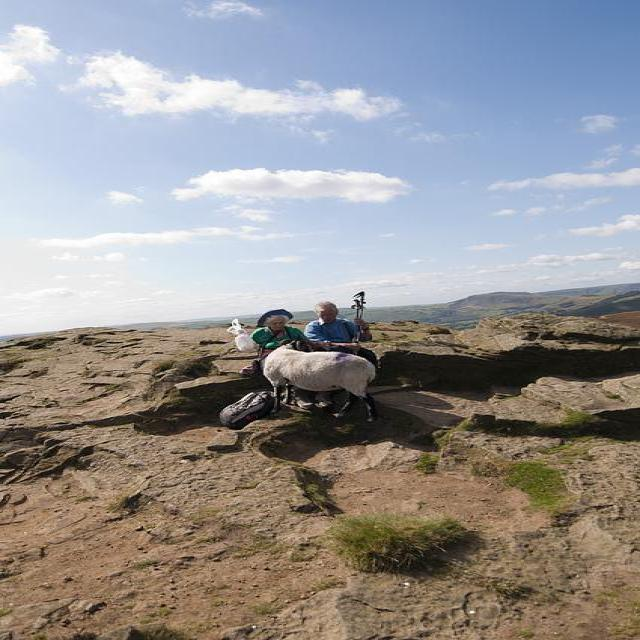Sheep: (263, 341, 375, 423)
